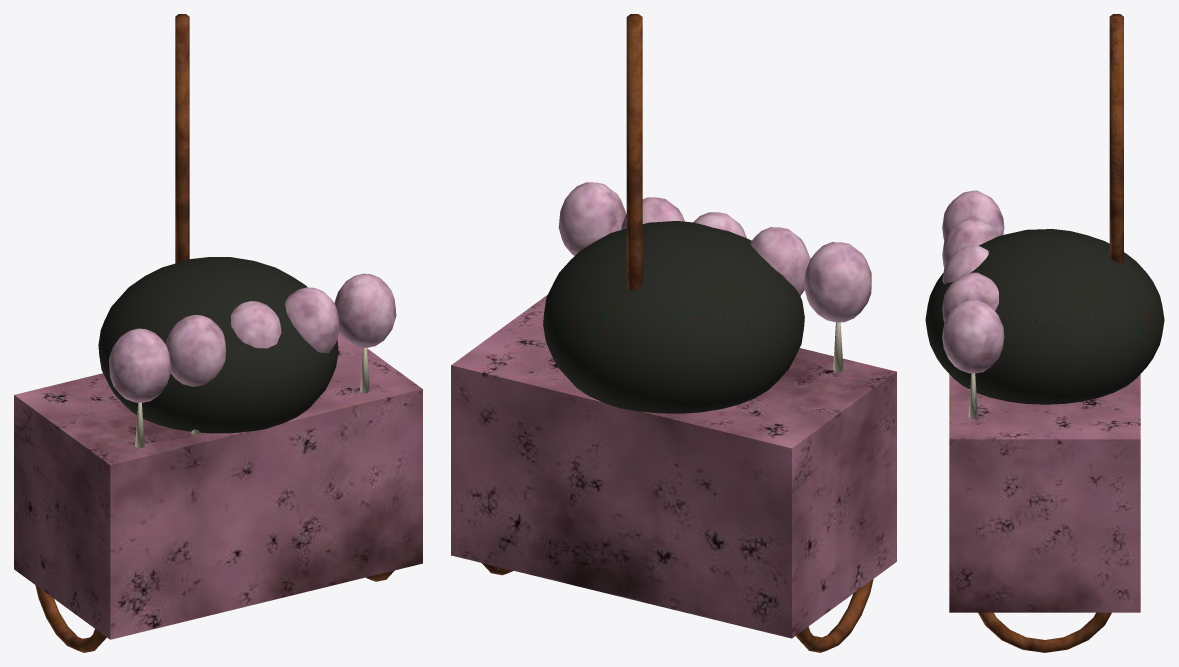
Rendered from cotton_candy.glb.
3 renders of one model, left to right at view 1: azimuth 30°, elevation 25°; view 2: azimuth 150°, elevation 25°; view 3: azimuth 270°, elevation 25°, orthographic. The views are drawn at different scales.
Parts seen in each view (by area): view 1: Main; view 2: Main; view 3: Main.
Boxes of the visible parts, bbox=[...] form: Main: bbox=[14, 14, 422, 652]; Main: bbox=[451, 14, 896, 652]; Main: bbox=[925, 14, 1164, 652].
Bounding box in the file's own units: 1.5 × 2.61 × 1.
1 material, 1 textured.
